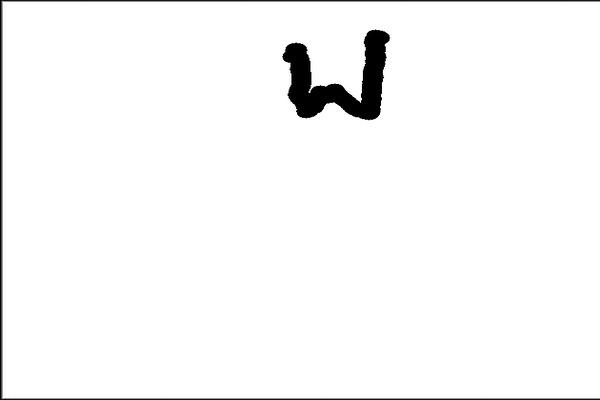w: (267, 18, 415, 135)
